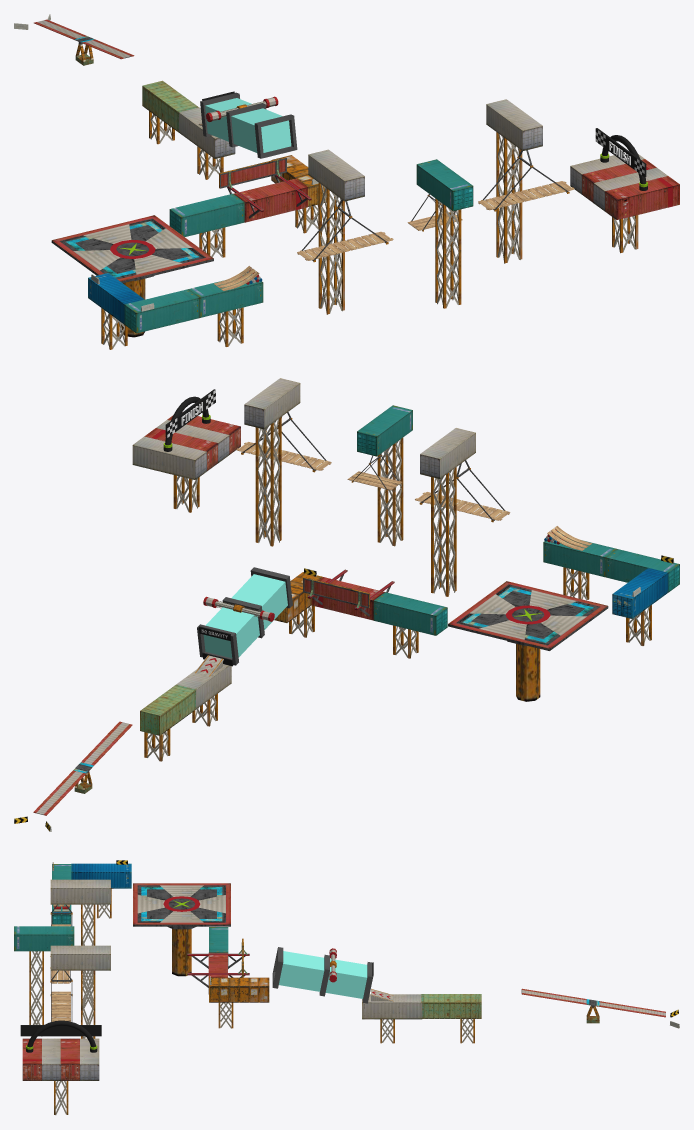
The model's file is 9_Parkour.fbx.
The picture shows the model from 3 angles, top to bottom: view 1: azimuth 30°, elevation 25°; view 2: azimuth 150°, elevation 25°; view 3: azimuth 270°, elevation 25°; orthographic projection. The views are drawn at different scales.
Visible parts, largest first — view 1: BalancePlatformMoving, NoGravityZone, stcontainergreen, stcontainergreen__1_, stcontainerred__5_, stcontainergreen__3_, stcontainerwhitetwo__2_, stcontainerwhitetwo__1_, stcontainerred__4_, stcontainergreen__2_, orangescaffold__9_, orangescaffold__10_ (+23 smaller); view 2: BalancePlatformMoving, NoGravityZone, stcontainergreen, stcontainerwhitetwo__4_, stcontainerwhitetwo__1_, stcontainergreen__3_, stcontainergreentwo, stcontainerwhitetwo__2_, stcontainerblue__1_, orangescaffold__9_, orangescaffold__10_, stcontainergreen__2_ (+19 smaller); view 3: BalancePlatformMoving, NoGravityZone, stcontainerwhitetwo__1_, stcontainerwhitetwo__2_, stcontainerorange, stcontainergreentwo, stcontainergreen__3_, stcontainerwhitetwo, finishObject, stcontainerblue__1_, BalancePlatformColumn, JointPlatform (+11 smaller).
Part boxes in pixels (box(x1,y1,x2,y2)): BalancePlatformMoving: box(51, 215, 213, 283); NoGravityZone: box(205, 98, 291, 152); stcontainergreen: box(169, 193, 244, 236); stcontainergreen__1_: box(124, 289, 199, 333); stcontainerred__5_: box(605, 176, 679, 219); stcontainergreen__3_: box(416, 159, 473, 211); stcontainerwhitetwo__2_: box(308, 149, 364, 201); stcontainerwhitetwo__1_: box(486, 99, 542, 150); stcontainerred__4_: box(233, 178, 307, 222); stcontainergreen__2_: box(188, 280, 263, 317); orangescaffold__9_: box(496, 177, 522, 263); orangescaffold__10_: box(318, 228, 344, 314); BalancePlatformMoving: box(448, 581, 608, 650); NoGravityZone: box(203, 574, 287, 658); stcontainergreen: box(373, 592, 447, 635); stcontainerwhitetwo__4_: box(132, 436, 206, 479); stcontainerwhitetwo__1_: box(244, 378, 300, 429); stcontainergreen__3_: box(357, 405, 412, 456); stcontainergreentwo: box(140, 684, 195, 735); stcontainerwhitetwo__2_: box(420, 428, 475, 478); stcontainerblue__1_: box(612, 567, 668, 618); orangescaffold__9_: box(255, 462, 281, 546); orangescaffold__10_: box(431, 512, 456, 596); stcontainergreen__2_: box(543, 538, 616, 577); BalancePlatformMoving: box(133, 883, 230, 926); NoGravityZone: box(279, 951, 367, 998); stcontainerwhitetwo__1_: box(50, 945, 110, 970); stcontainerwhitetwo__2_: box(50, 879, 110, 904); stcontainerorange: box(209, 977, 269, 1002); stcontainergreentwo: box(421, 994, 481, 1018); stcontainergreen__3_: box(14, 926, 74, 951); stcontainerwhitetwo: box(362, 994, 422, 1019); finishObject: box(20, 1020, 101, 1052); stcontainerblue__1_: box(71, 863, 131, 888); BalancePlatformColumn: box(167, 926, 196, 976); JointPlatform: box(521, 988, 665, 1017).
Size of the model in its own units: 13831 by 4617 by 18399.
